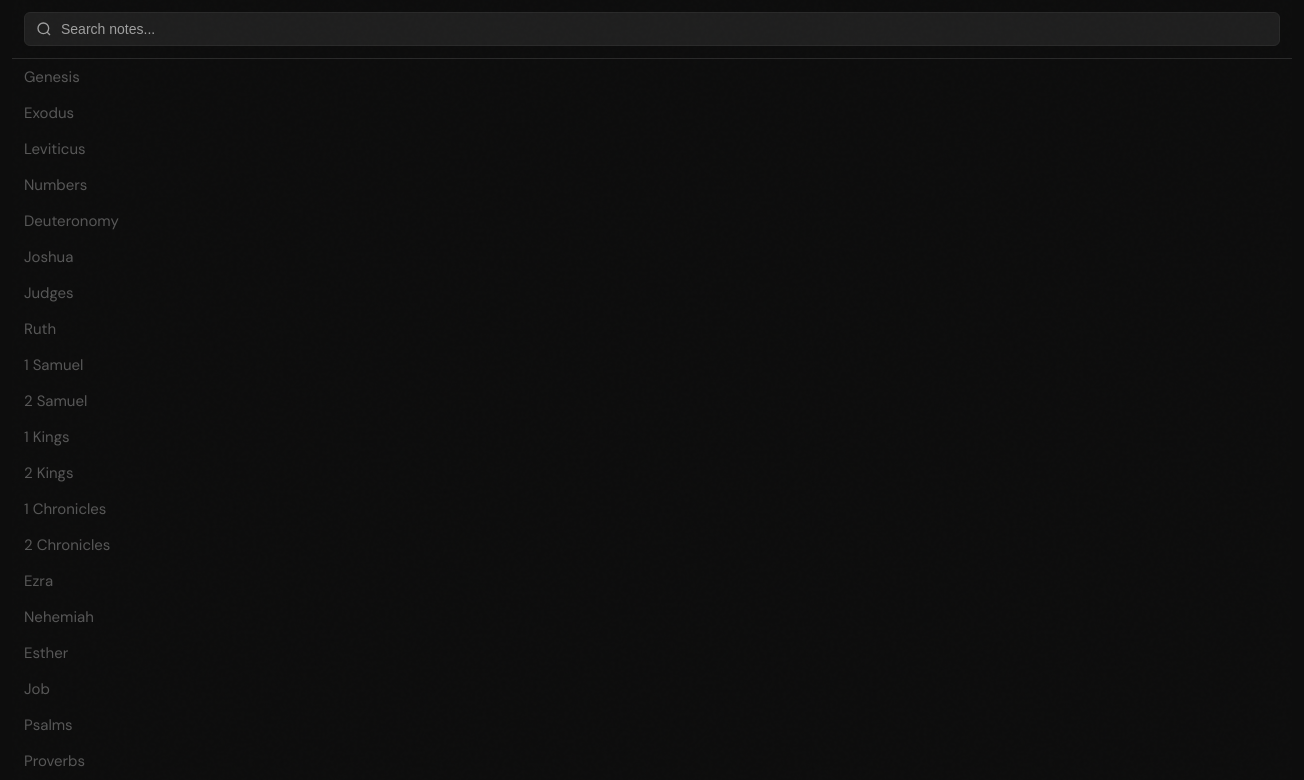
Test: NotesTree › search functionality › shows no results message
Step 1. Type "xyz" into the field with placeholder "Search notes..." → {"x": 652, "y": 29}, box x1=24 y1=12 x2=1280 y2=46
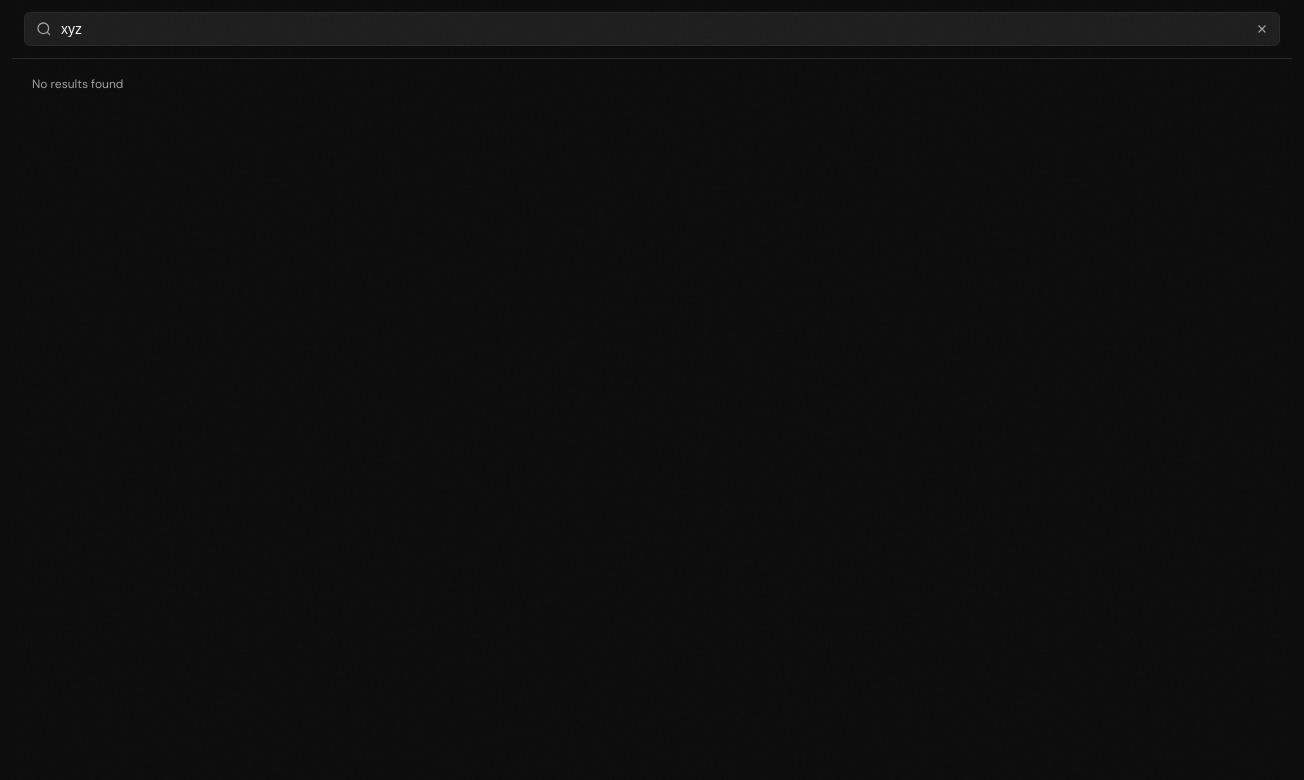
Result: the text "No results found" is shown at x1=32 y1=76 x2=123 y2=92
